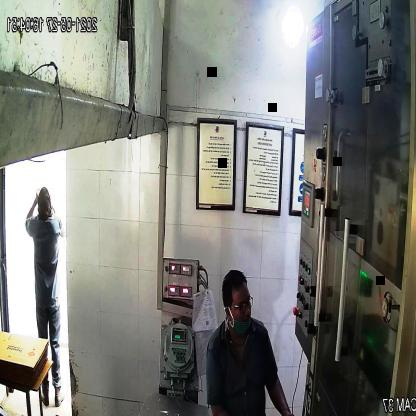goggles: (223, 293, 254, 315)
